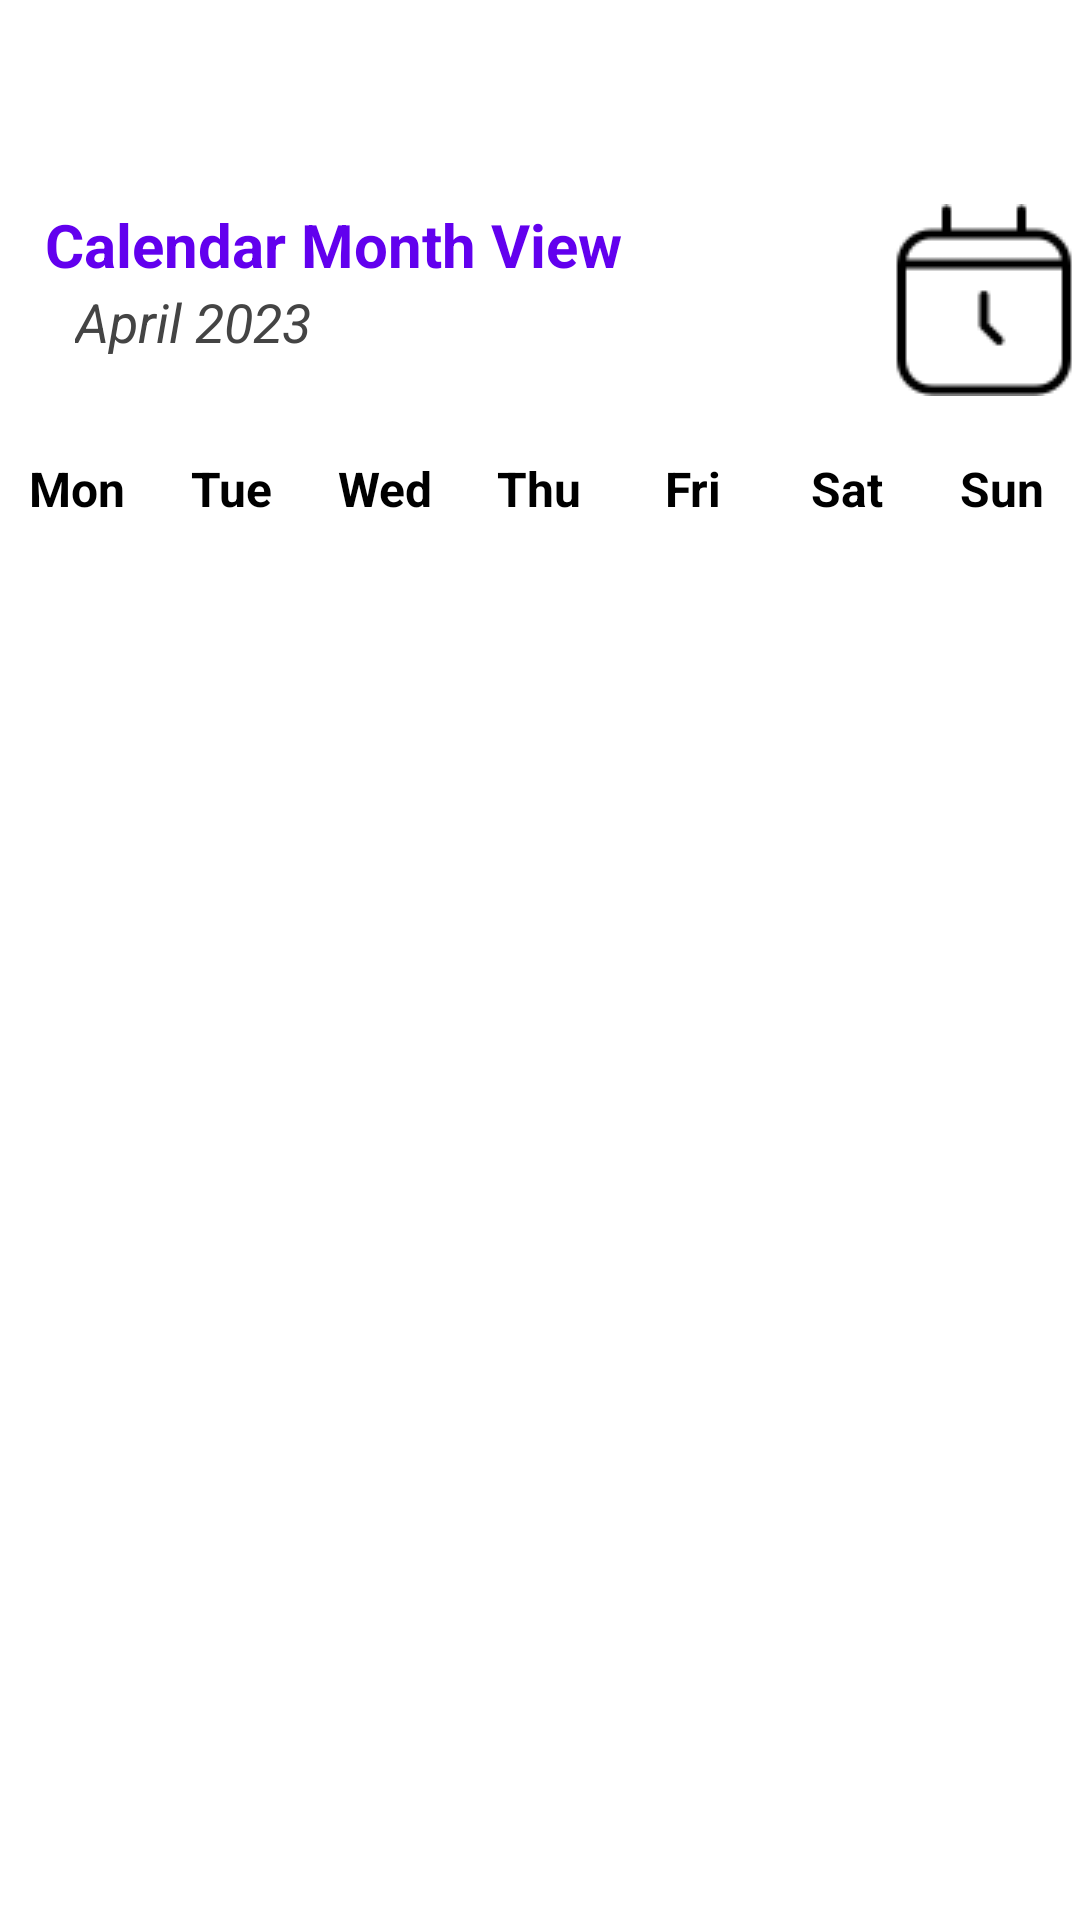

Icons on this 1080*1920 Android screen, each with its box as (x1, y1, x2, y2):
schedule: (896, 204, 1072, 396)
